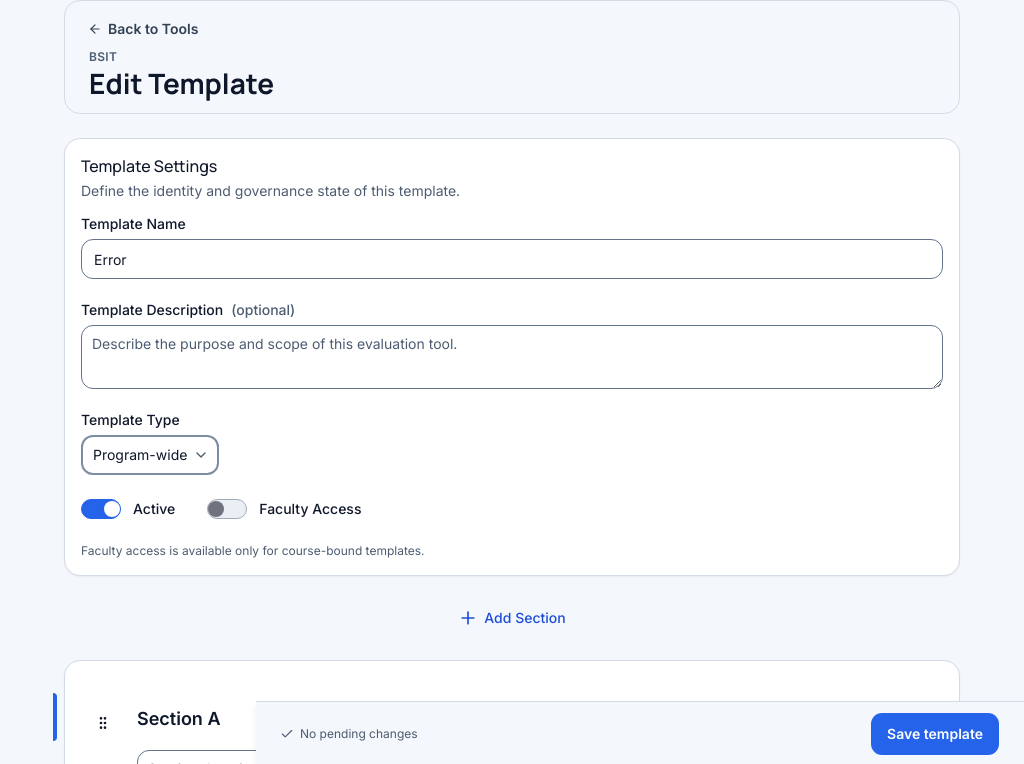
Test: TemplateBuilder › keeps a failed-save error visible after a rejected reorder
What coordinates should you click on to do the following:
click the button "Save template"
I would click on:
 (935, 734)
Its box is [870, 712, 1000, 756].
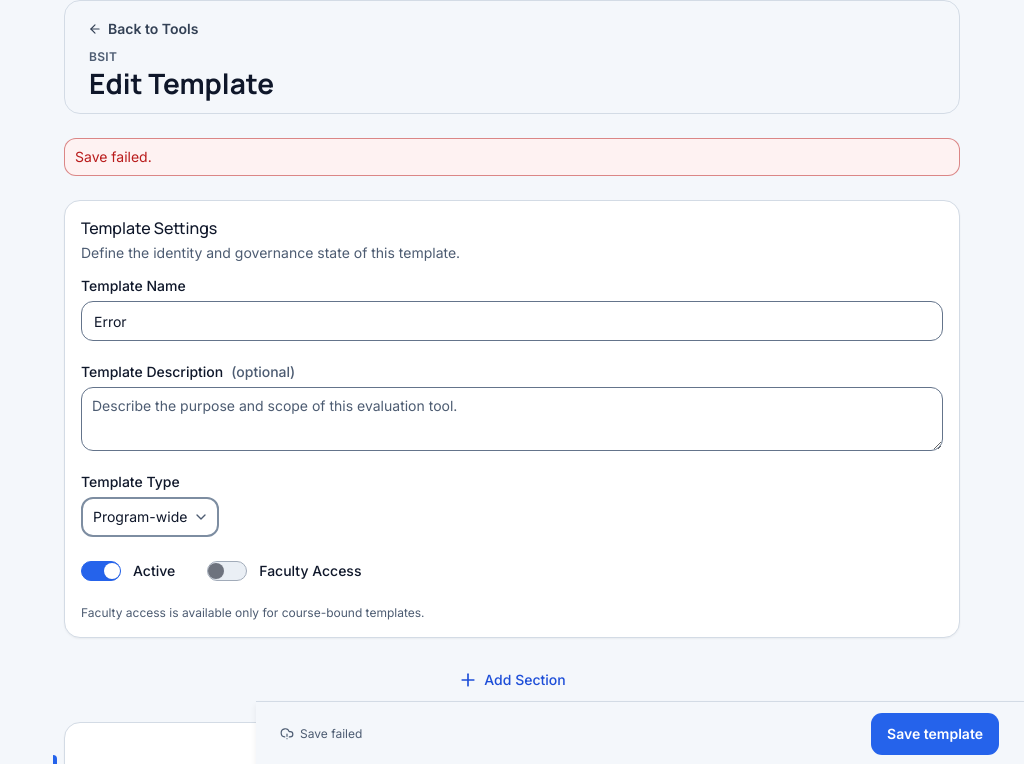
Result: the text "Save failed." is shown at [75, 148, 152, 165]
